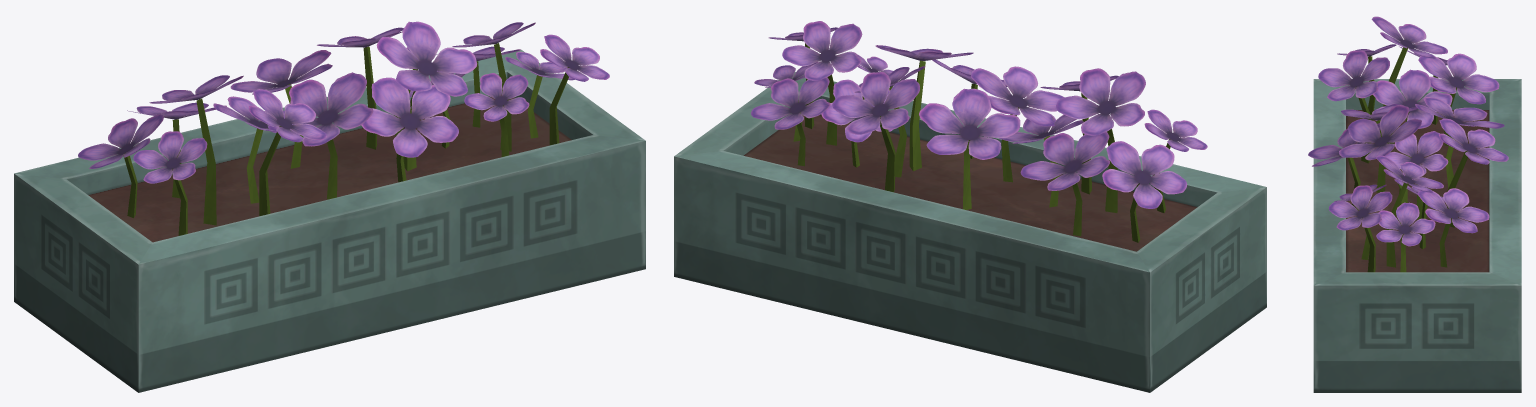
Rendered from flowerPot1.fbx.
3 views of the same model, side by side, from view 1: azimuth 30°, elevation 25°; view 2: azimuth 150°, elevation 25°; view 3: azimuth 270°, elevation 25° (orthographic). The views are drawn at different scales.
Visible parts, largest first — view 1: polySurface2256; view 2: polySurface2256; view 3: polySurface2256.
Part boxes in pixels (<box>): polySurface2256: <box>14,21,645,392</box>; polySurface2256: <box>674,21,1266,392</box>; polySurface2256: <box>1308,16,1521,392</box>.
Bounding box in the file's own units: 1.67 × 0.8015 × 0.7745.
